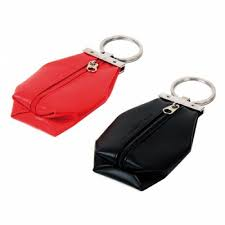monedero: (93, 76, 215, 191), (10, 35, 143, 138)
